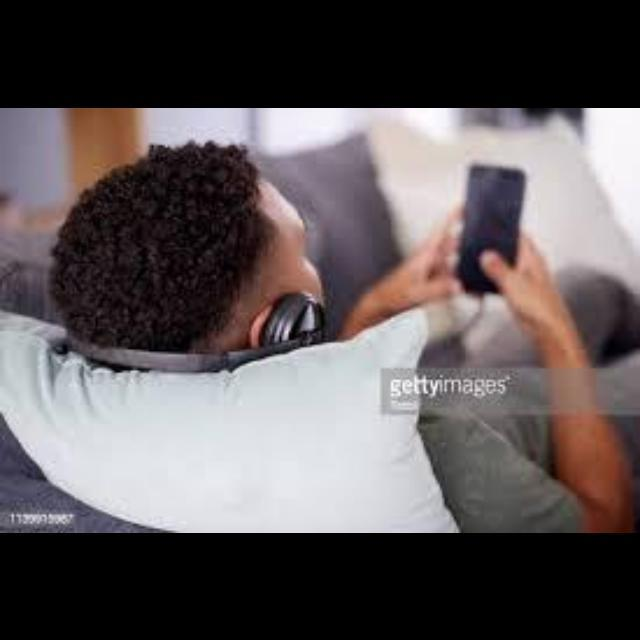PhoneUse: (456, 164, 526, 292)
